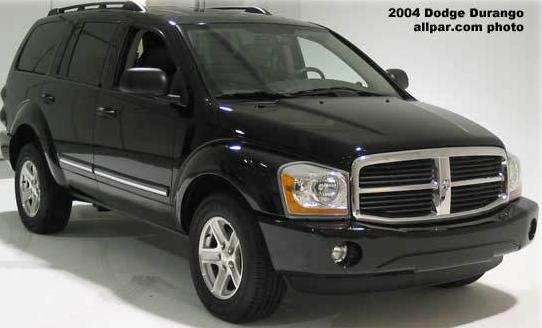front_view: (274, 134, 540, 295)
headlight: (270, 151, 367, 224)
side_glass: (66, 14, 199, 111)
